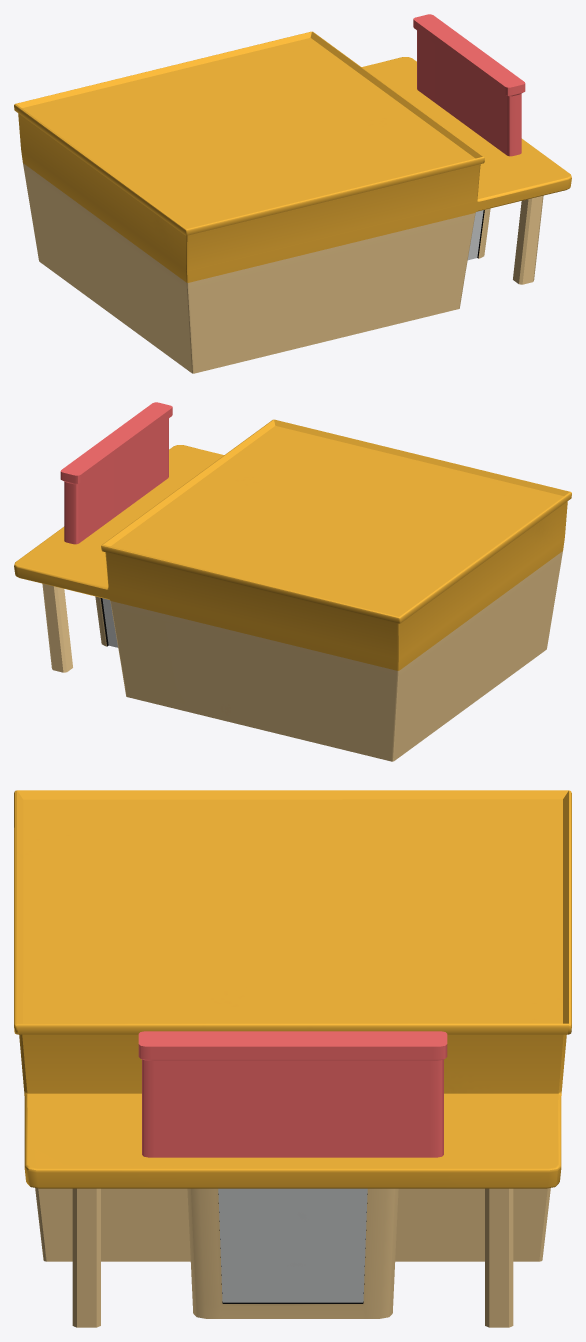
The model's file is Super_Market.fbx.
3 renders of one model, top to bottom at view 1: azimuth 30°, elevation 25°; view 2: azimuth 150°, elevation 25°; view 3: azimuth 270°, elevation 25°, orthographic. The views are drawn at different scales.
Parts seen in each view (by area): view 1: Super_Market; view 2: Super_Market; view 3: Super_Market.
Part boxes in pixels (left/top/right/bottom): Super_Market: left=14, top=14, right=571, bottom=373; Super_Market: left=14, top=402, right=571, bottom=761; Super_Market: left=14, top=790, right=571, bottom=1327.
Bounding box in the file's own units: 10.63 × 4.66 × 8.12.
1 material, 1 textured.
